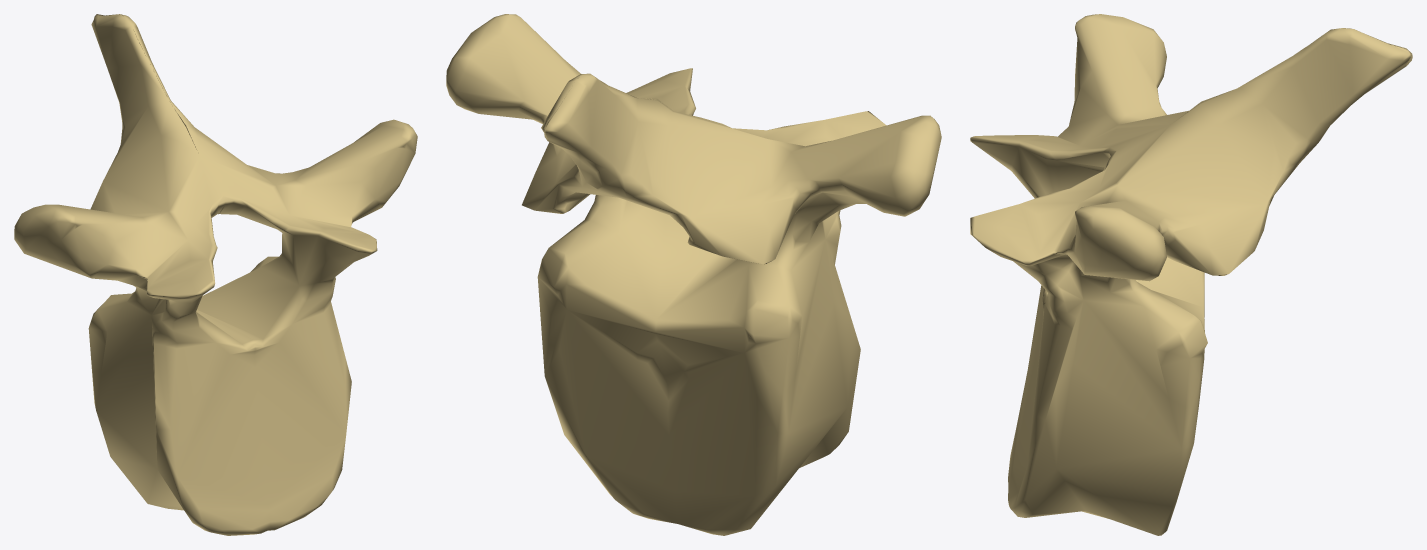
3 renders of one model, left to right at view 1: azimuth 30°, elevation 25°; view 2: azimuth 150°, elevation 25°; view 3: azimuth 270°, elevation 25°, orthographic. The views are drawn at different scales.
Parts seen in each view (by area): view 1: 第八胸椎; view 2: 第八胸椎; view 3: 第八胸椎.
Part boxes in pixels (left/top/right/bottom): 第八胸椎: left=14, top=14, right=417, bottom=535; 第八胸椎: left=446, top=14, right=941, bottom=535; 第八胸椎: left=970, top=14, right=1412, bottom=535.
Bounding box in the file's own units: 0.1034 × 0.1086 × 0.0887.
